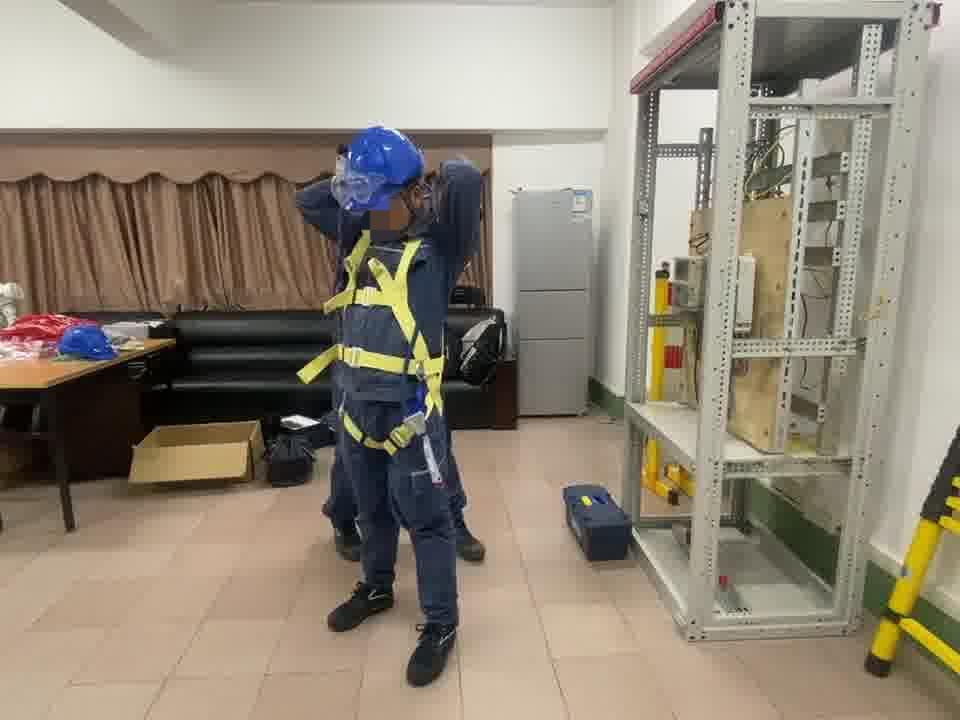halt: (340, 129, 431, 235)
